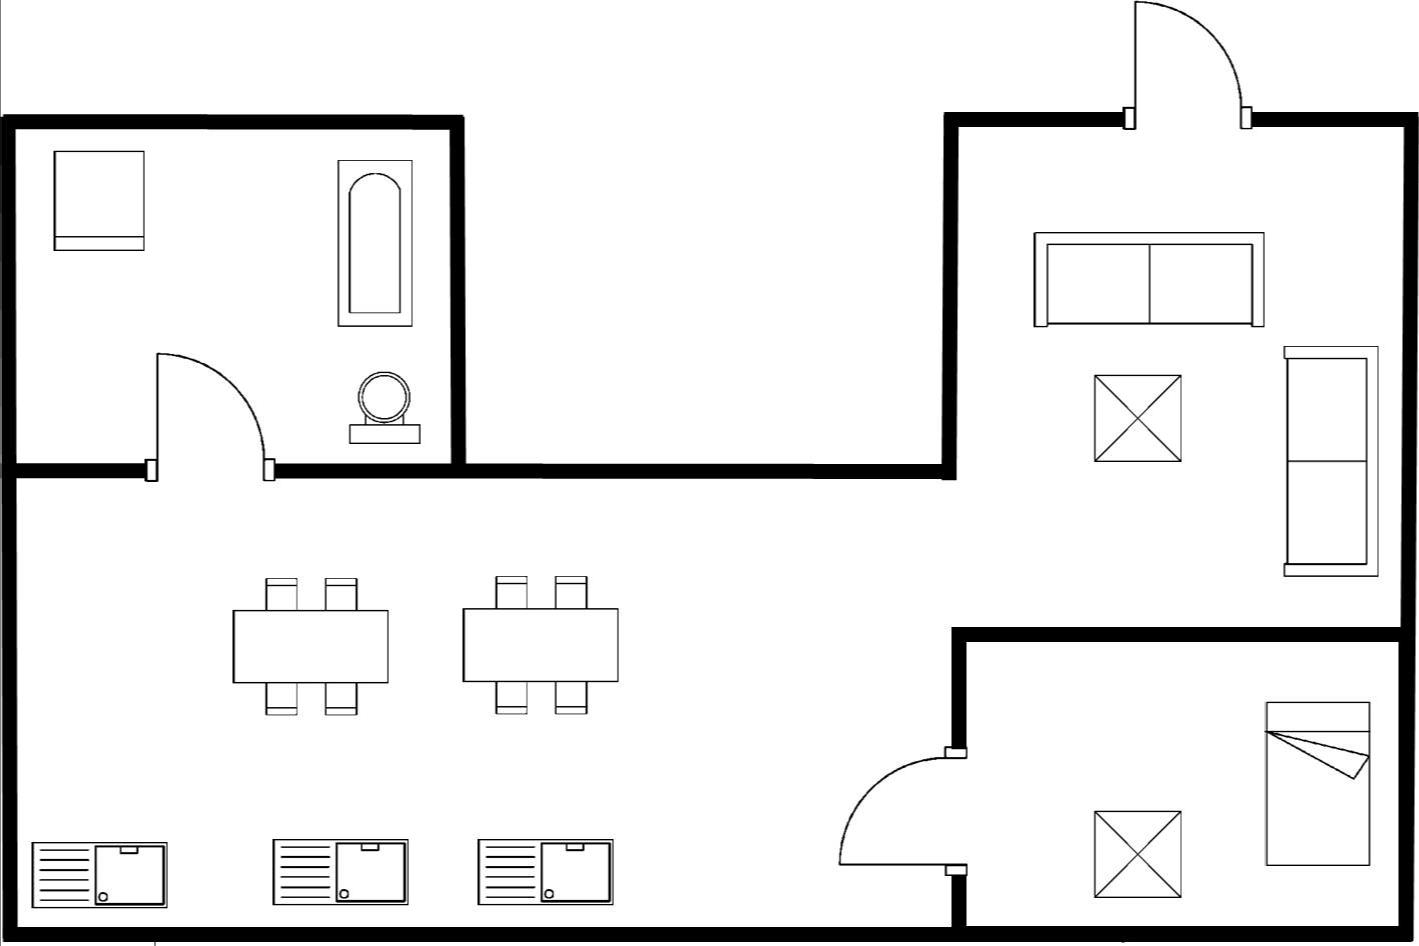bed: (1257, 696, 1376, 871)
dining_table: (452, 565, 626, 718), (224, 570, 398, 722)
sink: (22, 834, 175, 915), (264, 829, 411, 912), (472, 832, 618, 913)
sofa: (1023, 225, 1273, 332), (1278, 339, 1384, 584)
toilet: (343, 366, 425, 450)
tub: (329, 151, 415, 334)
